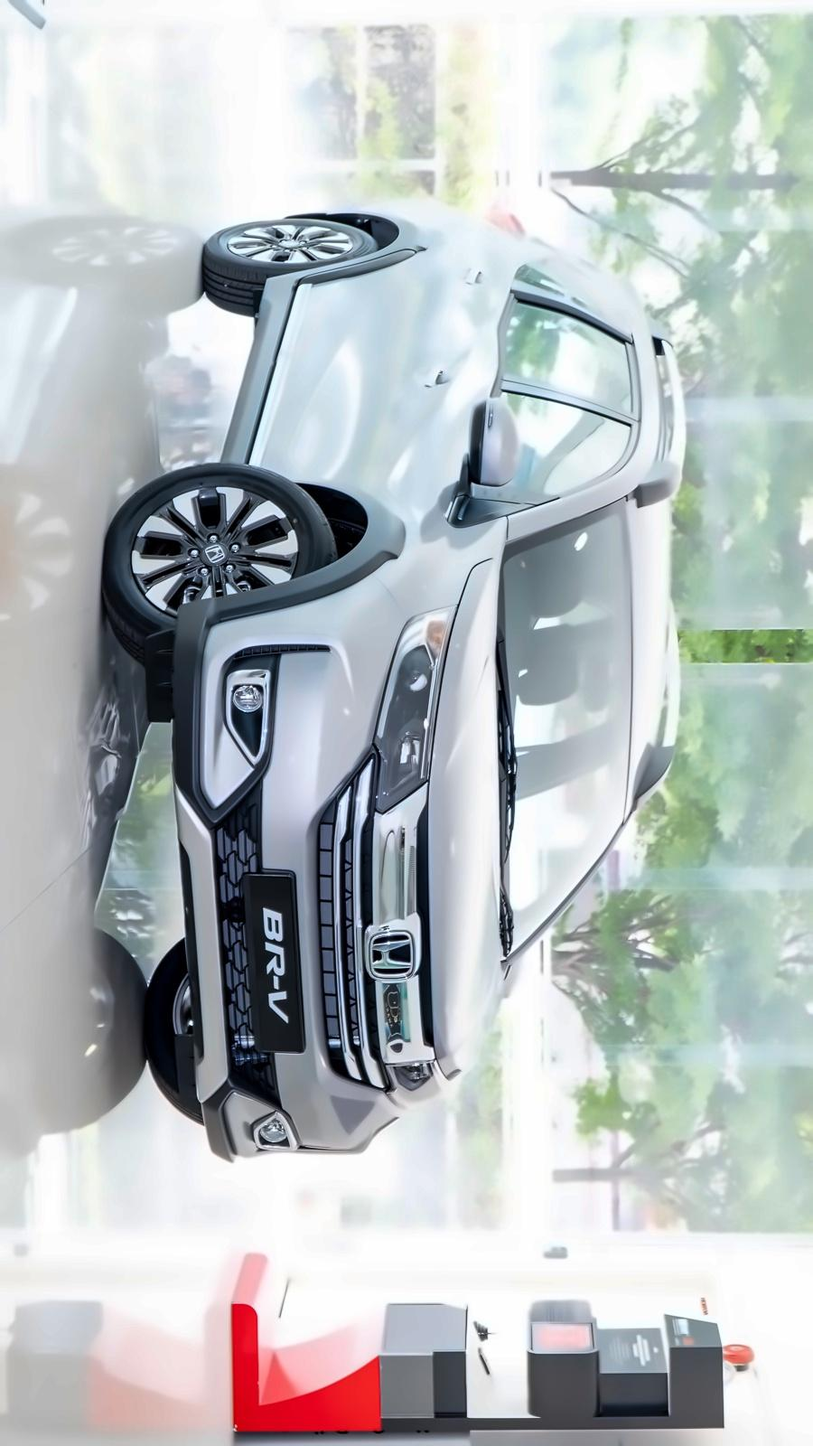Car hood: (420, 543, 533, 1087)
Driver-s door - -F-R-: (249, 358, 662, 492)
Fender - -F-R-: (247, 474, 520, 617)
Fender - -R-R-: (286, 219, 518, 295)
Front bumper: (156, 599, 399, 1208)
Headlight - -L-: (371, 1035, 467, 1124)
Headlight - -R-: (362, 604, 461, 826)
Passenger-s door - -R-R-: (259, 280, 660, 393)
Rear bumper: (283, 188, 412, 231)
Rear light - -R-: (459, 201, 547, 249)
Side bumper - -R-: (210, 260, 303, 487)
Side mirror - -R-: (450, 384, 535, 512)
